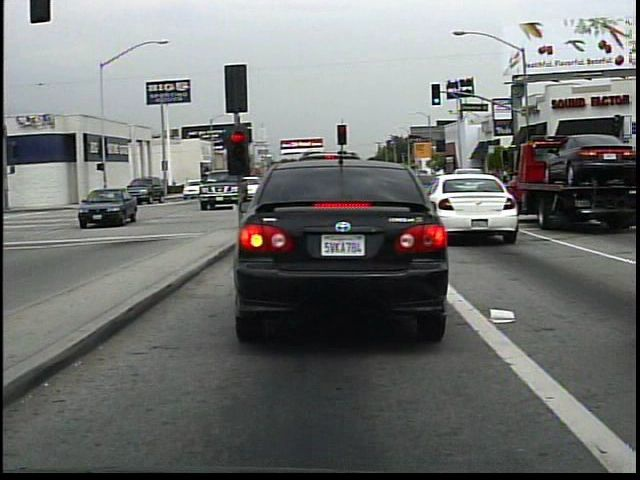person: (179, 173, 201, 199)
